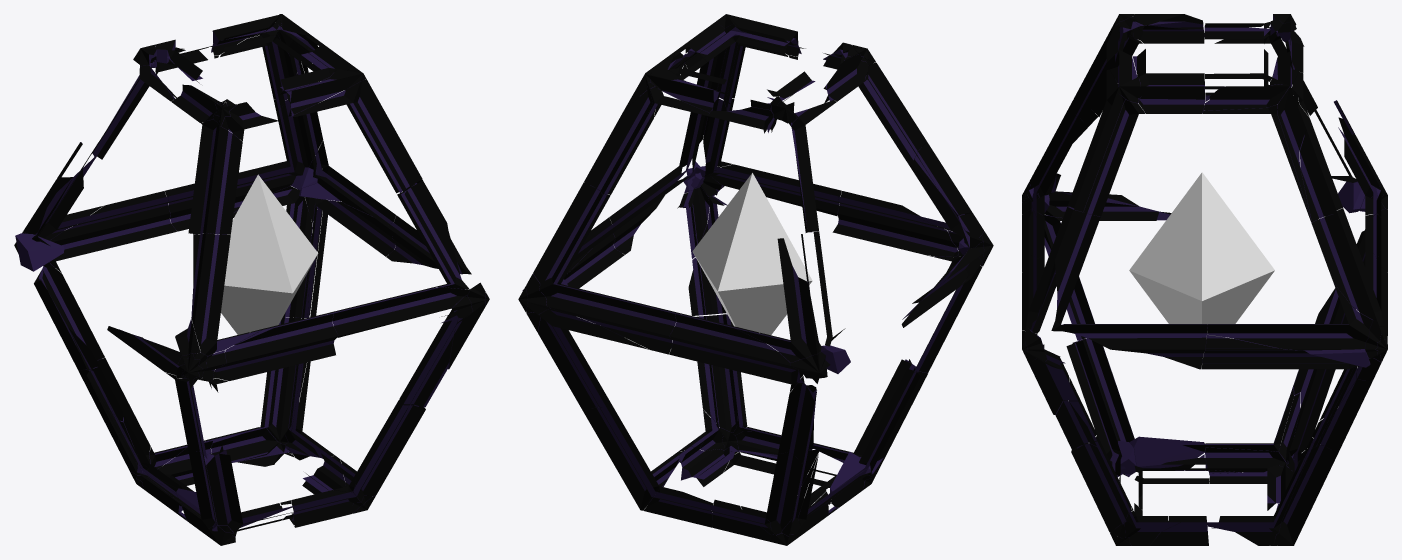
Rendered from Brokenlantern.fbx.
3 renders of one model, left to right at view 1: azimuth 30°, elevation 25°; view 2: azimuth 150°, elevation 25°; view 3: azimuth 270°, elevation 25°, orthographic. The views are drawn at different scales.
Visible parts, largest first — view 1: Cone.001, Cube_cell.016, Cube_cell.125, Cube_cell.028, Cube_cell.144, Cube_cell.151, Cube_cell.097, Cube_cell.149, Cube_cell.046, Cube_cell.062, Cube_cell.094, Cube_cell.082 (+46 smaller); view 2: Cone.001, Cube_cell.016, Cube_cell, Cube_cell.144, Cube_cell.094, Cube_cell.149, Cube_cell.012, Cube_cell.146, Cube_cell.028, Cube_cell.081, Cube_cell.125, Cube_cell.093 (+47 smaller); view 3: Cone.001, Cube_cell.012, Cube_cell.016, Cube_cell.124, Cube_cell.094, Cube_cell.046, Cube_cell.151, Cube_cell.091, Cube_cell.028, Cube_cell.033, Cube_cell.081, Cube_cell.050 (+54 smaller).
Boxes of the visible parts, x1=… form: Cone.001: x1=221, y1=174, x2=318, y2=334; Cube_cell.016: x1=165, y1=99, x2=317, y2=229; Cube_cell.125: x1=188, y1=119, x2=242, y2=234; Cube_cell.028: x1=191, y1=233, x2=260, y2=355; Cube_cell.144: x1=49, y1=205, x2=176, y2=272; Cube_cell.151: x1=294, y1=79, x2=422, y2=192; Cube_cell.097: x1=327, y1=287, x2=469, y2=337; Cube_cell.149: x1=213, y1=313, x2=338, y2=374; Cube_cell.046: x1=206, y1=445, x2=296, y2=532; Cube_cell.062: x1=34, y1=262, x2=104, y2=370; Cube_cell.094: x1=259, y1=317, x2=306, y2=453; Cube_cell.082: x1=355, y1=400, x2=425, y2=502; Cone.001: x1=692, y1=173, x2=812, y2=335; Cube_cell.016: x1=533, y1=182, x2=681, y2=348; Cube_cell: x1=538, y1=308, x2=648, y2=410; Cube_cell.144: x1=669, y1=326, x2=803, y2=392; Cube_cell.094: x1=583, y1=402, x2=660, y2=510; Cube_cell.149: x1=837, y1=196, x2=958, y2=256; Cube_cell.012: x1=609, y1=112, x2=705, y2=252; Cube_cell.146: x1=737, y1=238, x2=821, y2=362; Cube_cell.028: x1=907, y1=142, x2=972, y2=237; Cube_cell.081: x1=584, y1=82, x2=655, y2=194; Cube_cell.125: x1=858, y1=63, x2=926, y2=161; Cube_cell.093: x1=789, y1=100, x2=836, y2=232; Cone.001: x1=1129, y1=172, x2=1274, y2=367; Cube_cell.012: x1=1051, y1=214, x2=1207, y2=356; Cube_cell.016: x1=1311, y1=208, x2=1387, y2=334; Cube_cell.124: x1=1207, y1=283, x2=1372, y2=350; Cube_cell.094: x1=1274, y1=437, x2=1337, y2=545; Cube_cell.046: x1=1066, y1=340, x2=1121, y2=476; Cube_cell.151: x1=1067, y1=69, x2=1125, y2=211; Cube_cell.091: x1=1083, y1=99, x2=1145, y2=216; Cube_cell.028: x1=1026, y1=100, x2=1094, y2=216; Cube_cell.033: x1=1206, y1=441, x2=1309, y2=545; Cube_cell.081: x1=1294, y1=91, x2=1342, y2=216; Cube_cell.050: x1=1133, y1=14, x2=1204, y2=43.
Bounding box in the file's own units: 263 × 352 × 253.
